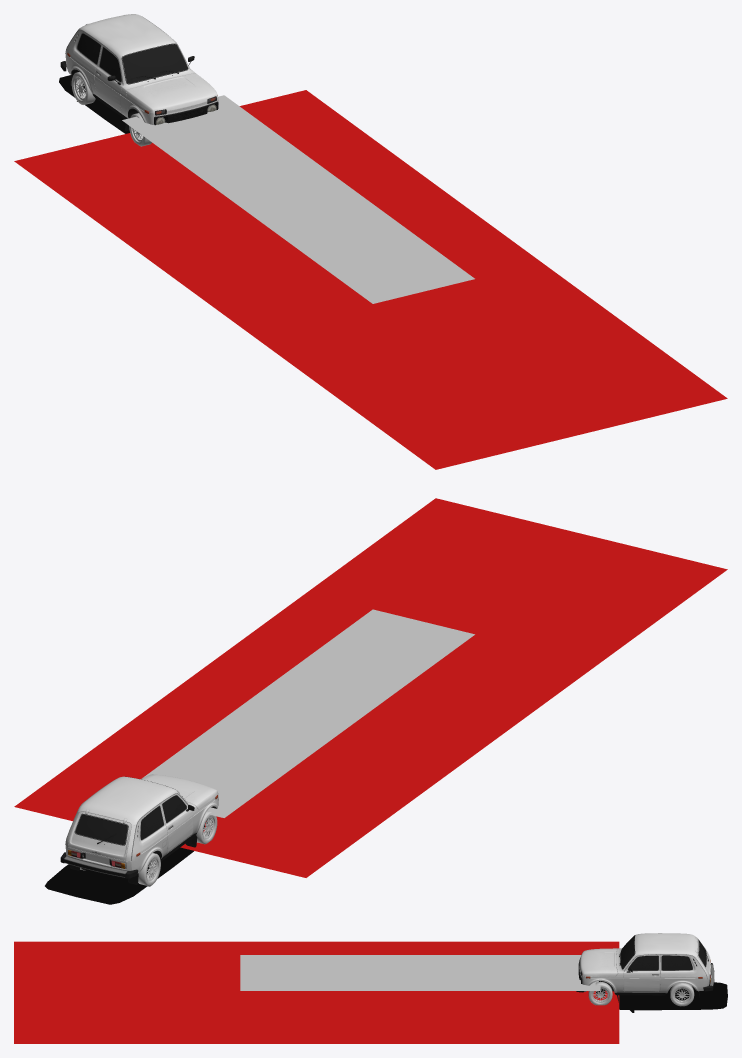
The model's file is car39.fbx.
3 renders of one model, top to bottom at view 1: azimuth 30°, elevation 25°; view 2: azimuth 150°, elevation 25°; view 3: azimuth 270°, elevation 25°, orthographic. The views are drawn at different scales.
Parts seen in each view (by area): view 1: light_ground, far_lights, lada_niva, shadow_car; view 2: light_ground, far_lights, lada_niva, shadow_car; view 3: light_ground, far_lights, lada_niva, shadow_car, decalSide, wheel_RL, wheel_FL.
Part boxes in pixels (x1,y1,x2,y2): light_ground: (14,90,727,469); far_lights: (122,95,474,303); lada_niva: (60,14,218,131); shadow_car: (59,75,129,133); light_ground: (14,498,727,877); far_lights: (143,609,474,817); lada_niva: (60,774,218,884); shadow_car: (45,847,193,904); light_ground: (14,941,619,1043); far_lights: (240,955,600,990); lada_niva: (576,933,714,1002); shadow_car: (619,982,727,1012); decalSide: (624,975,659,991); wheel_RL: (670,983,694,1006); wheel_FL: (588,981,612,1005).
Size of the model in its own units: 46.54 by 11.22 by 137.
